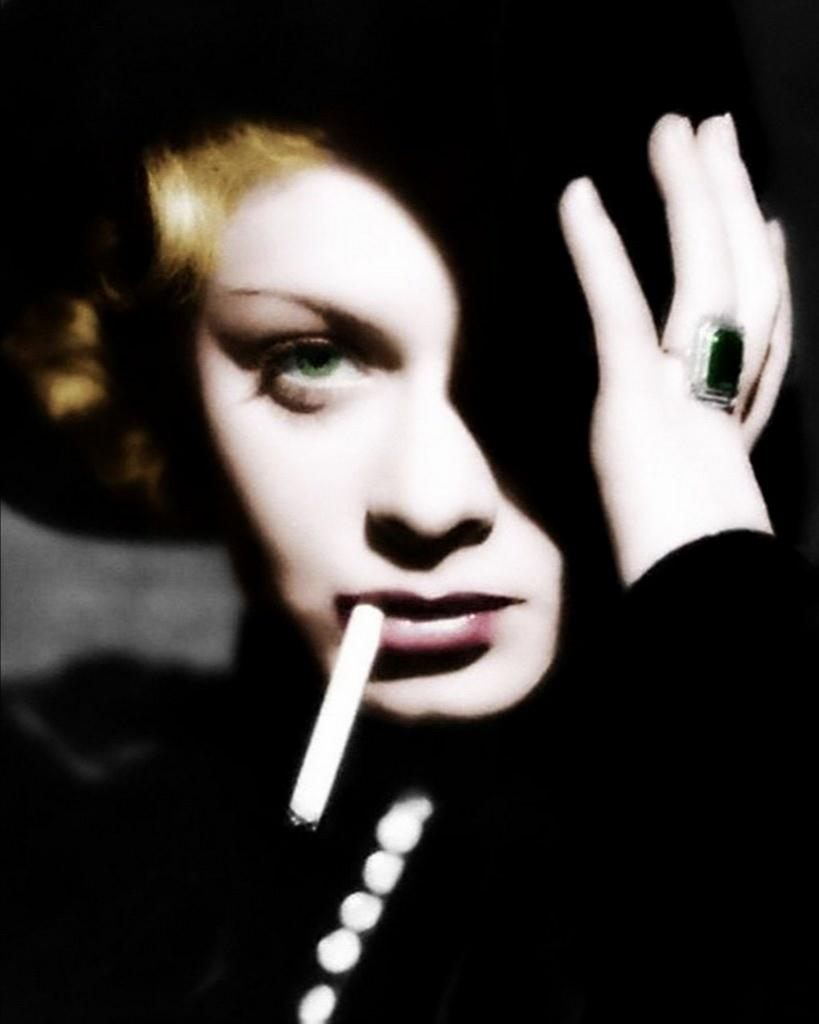Cigarette: (286, 606, 388, 833)
